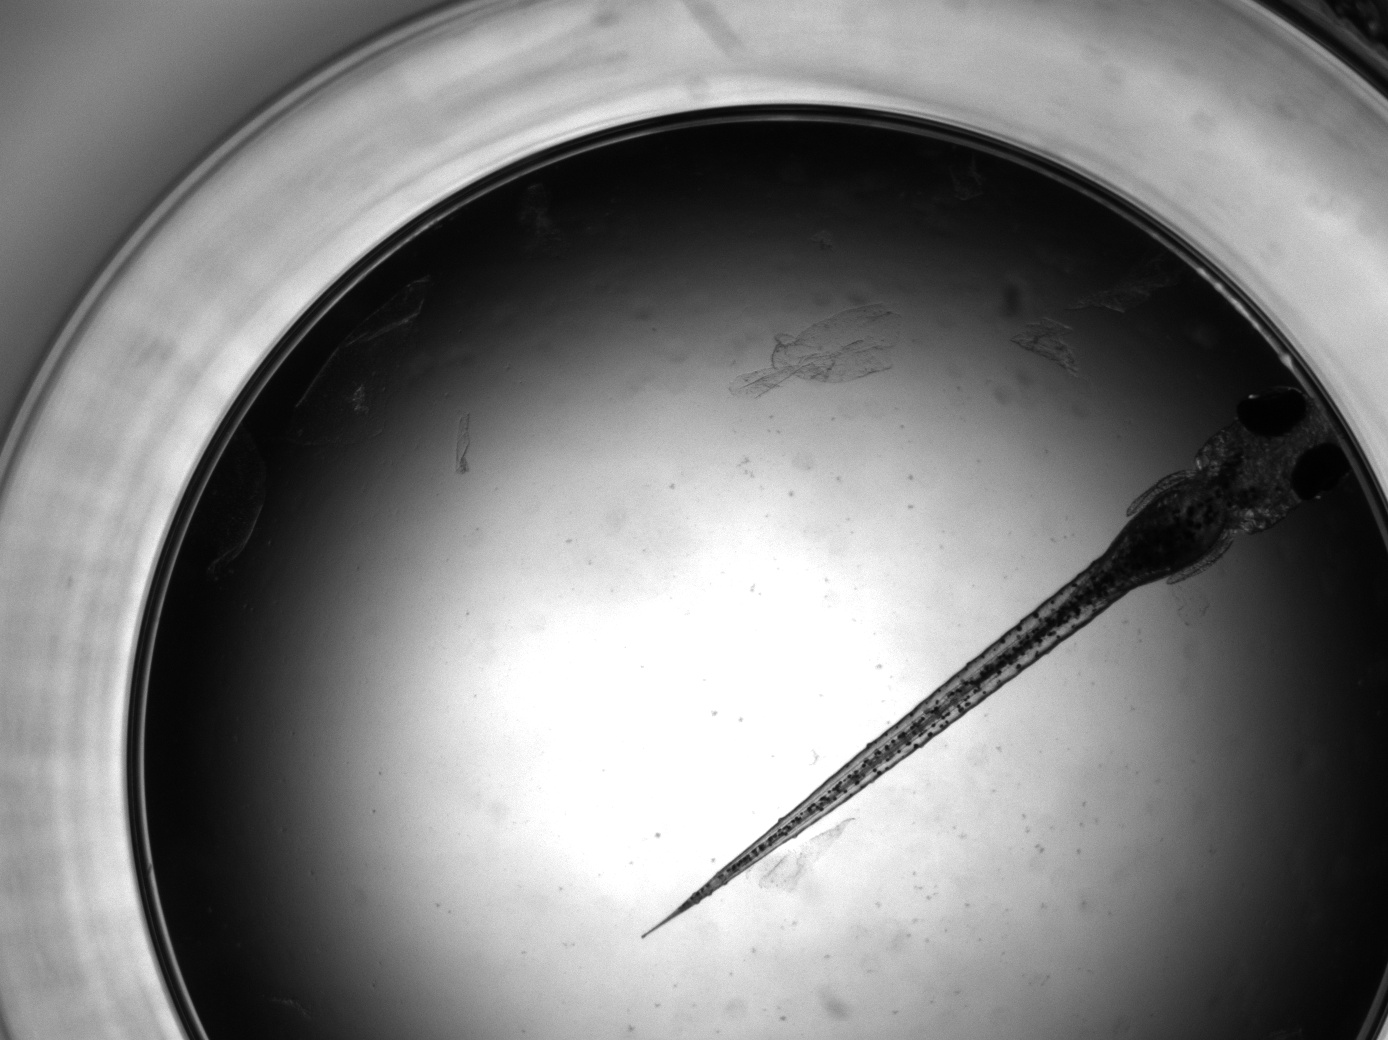debris: (728, 302, 907, 399)
embryo: (640, 387, 1349, 939)
eye: (1233, 388, 1309, 439), (1286, 442, 1349, 503)
yolksac: (1099, 475, 1230, 587)
